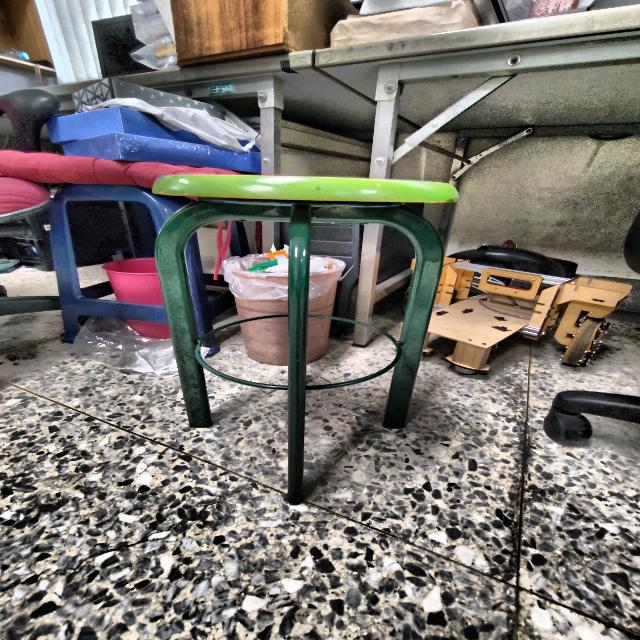cadeira: (132, 163, 460, 510)
